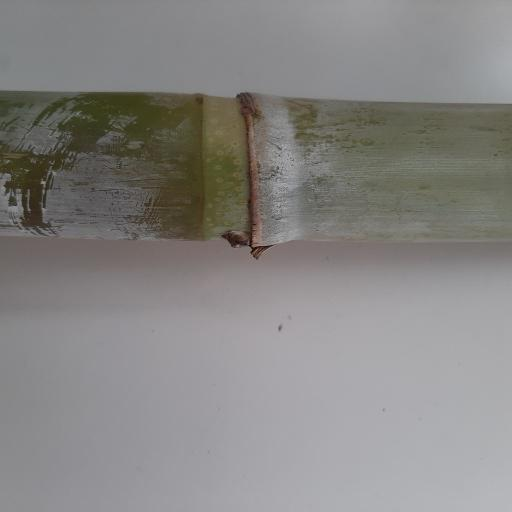Bud: (223, 231, 253, 247)
